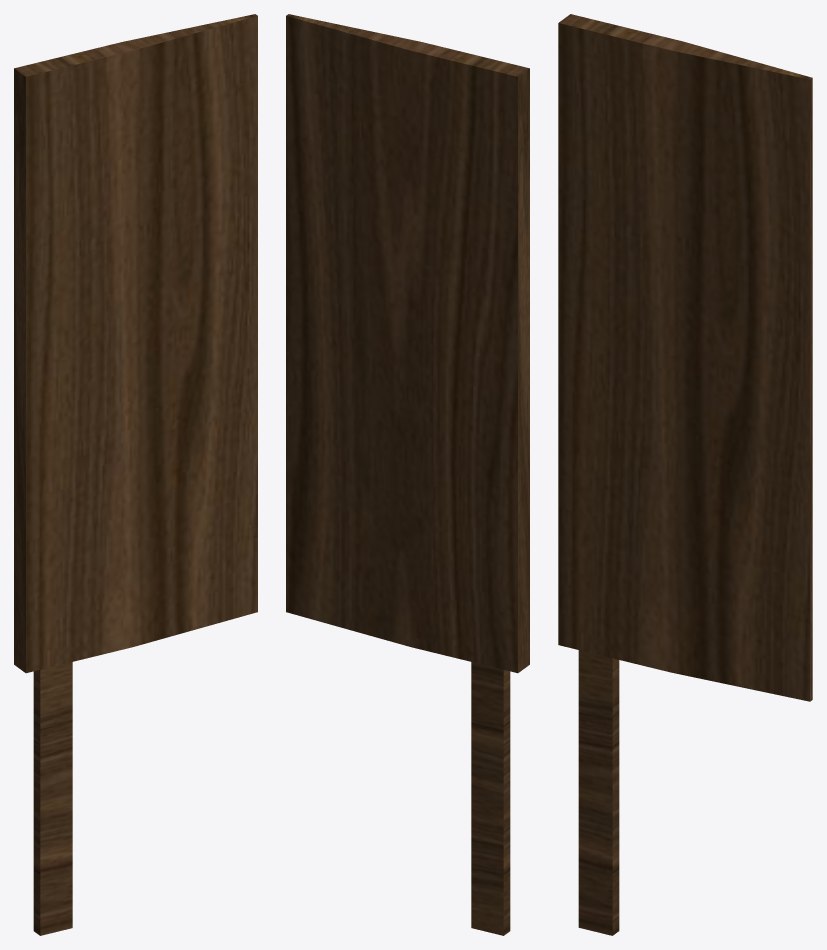
File: windmill-blade.obj
3 views of the same model, side by side, from view 1: azimuth 30°, elevation 25°; view 2: azimuth 150°, elevation 25°; view 3: azimuth 330°, elevation 25° (orthographic). The views are drawn at different scales.
Parts seen in each view (by area): view 1: pCube1; view 2: pCube1; view 3: pCube1.
Boxes of the visible parts, x1,y1,x2,y2 form: pCube1: [14, 14, 257, 935]; pCube1: [286, 14, 529, 935]; pCube1: [558, 14, 812, 935].
Bounding box in the file's own units: 1.87 × 6.52 × 0.1598.
Materials: 1 (1 with a texture image).
